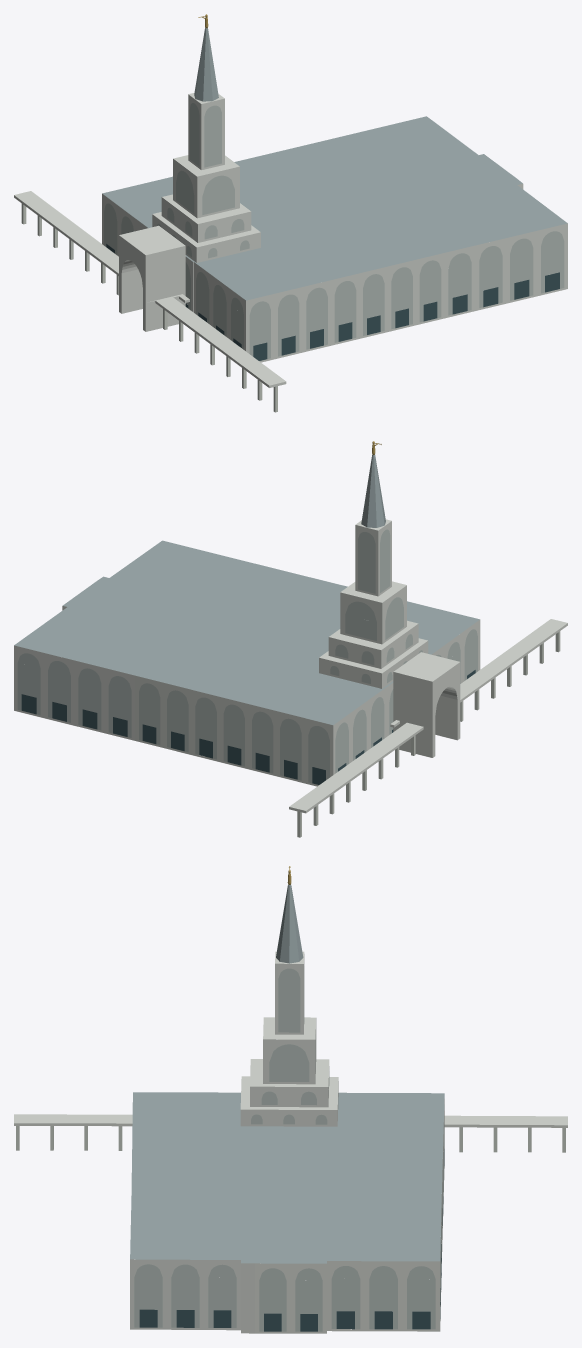
File: toronto-ontario-temple-brampton-near.glb
3 views of the same model, one above another, from view 1: azimuth 30°, elevation 25°; view 2: azimuth 150°, elevation 25°; view 3: azimuth 270°, elevation 25° (orthographic). The views are drawn at different scales.
Parts seen in each view (by area): view 1: toronto-ontario-temple-brampton-0-roof, toronto-ontario-temple-brampton-0-white, toronto-ontario-temple-brampton-0-recess, toronto-ontario-temple-brampton-0-glass, toronto-ontario-temple-brampton-0-column; view 2: toronto-ontario-temple-brampton-0-roof, toronto-ontario-temple-brampton-0-white, toronto-ontario-temple-brampton-0-recess, toronto-ontario-temple-brampton-0-glass, toronto-ontario-temple-brampton-0-column; view 3: toronto-ontario-temple-brampton-0-roof, toronto-ontario-temple-brampton-0-white, toronto-ontario-temple-brampton-0-recess, toronto-ontario-temple-brampton-0-glass, toronto-ontario-temple-brampton-0-column.
Part boxes in pixels (x1=…): toronto-ontario-temple-brampton-0-roof: x1=102, y1=28, x2=567, y2=300; toronto-ontario-temple-brampton-0-white: x1=14, y1=92, x2=567, y2=387; toronto-ontario-temple-brampton-0-recess: x1=104, y1=103, x2=564, y2=358; toronto-ontario-temple-brampton-0-glass: x1=106, y1=244, x2=559, y2=360; toronto-ontario-temple-brampton-0-column: x1=21, y1=203, x2=277, y2=412; toronto-ontario-temple-brampton-0-roof: x1=14, y1=455, x2=479, y2=724; toronto-ontario-temple-brampton-0-white: x1=14, y1=519, x2=567, y2=813; toronto-ontario-temple-brampton-0-recess: x1=17, y1=529, x2=477, y2=783; toronto-ontario-temple-brampton-0-glass: x1=21, y1=670, x2=475, y2=784; toronto-ontario-temple-brampton-0-column: x1=297, y1=631, x2=560, y2=837; toronto-ontario-temple-brampton-0-roof: x1=130, y1=884, x2=444, y2=1263; toronto-ontario-temple-brampton-0-white: x1=14, y1=951, x2=567, y2=1333; toronto-ontario-temple-brampton-0-recess: x1=134, y1=966, x2=444, y2=1331; toronto-ontario-temple-brampton-0-glass: x1=139, y1=1149, x2=444, y2=1331; toronto-ontario-temple-brampton-0-column: x1=16, y1=1126, x2=565, y2=1152.
Bounding box in the file's own units: 69.42 × 52.12 × 84.49.
